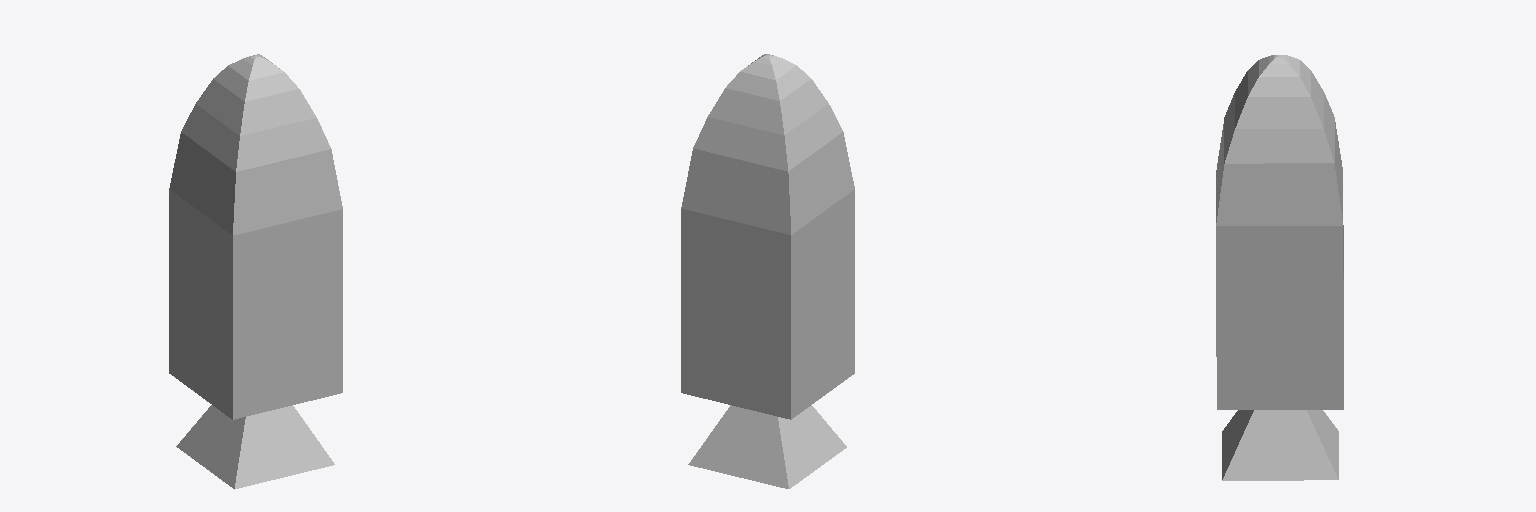
Rendered from rocket.obj.
3 views of the same model, side by side, from view 1: azimuth 30°, elevation 25°; view 2: azimuth 150°, elevation 25°; view 3: azimuth 270°, elevation 25° (orthographic).
Size of the model in its own units: 0.6684 by 2.32 by 0.6713.